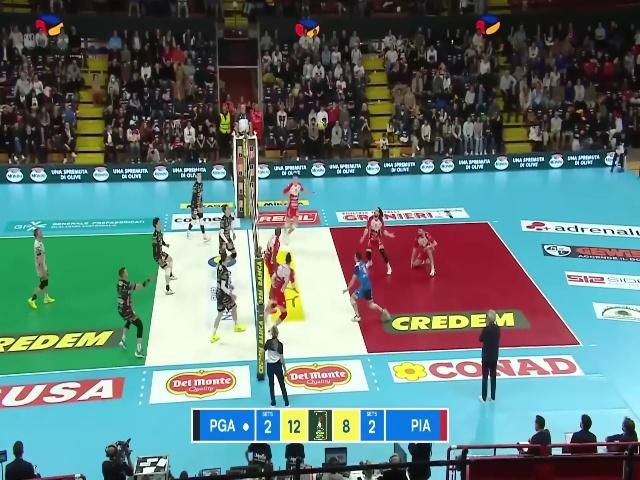volleyball court: (0, 219, 581, 378)
